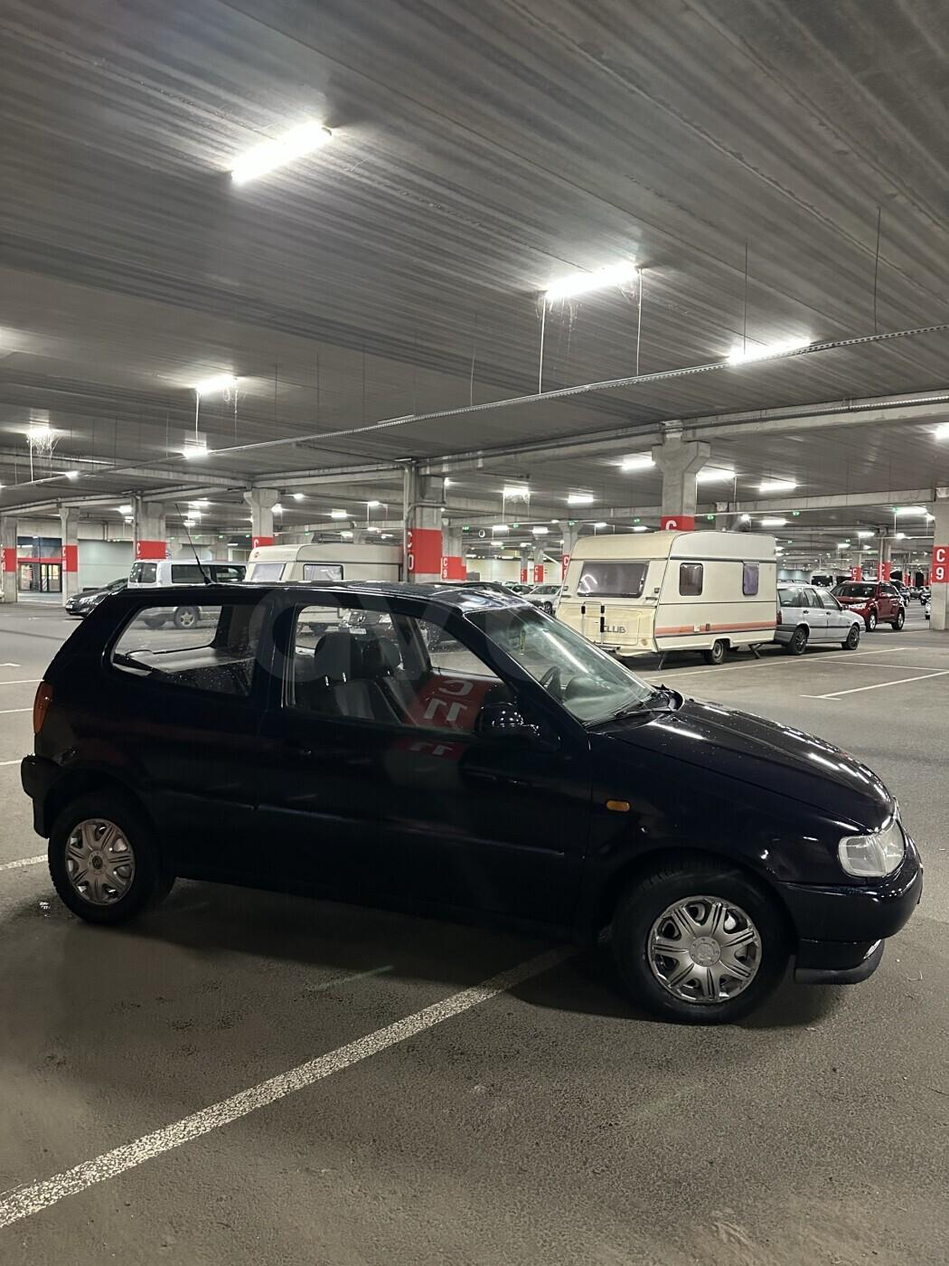Polo_1994-2002: (0, 576, 940, 1047)
